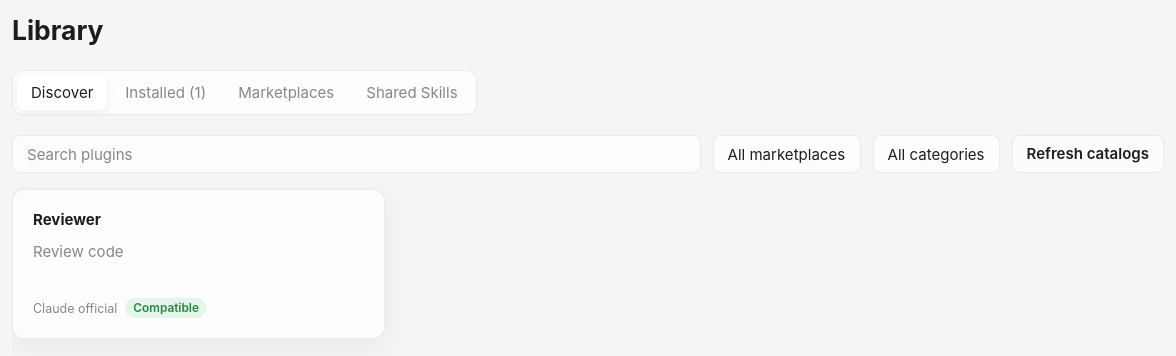
Scenario: PluginsTab › renders a list of plugins from the stub
This screenshot has width=1176, height=356.
Step 1. Click the tab "Installed (1)" → coordinates (166, 92), box x1=111 y1=75 x2=220 y2=110
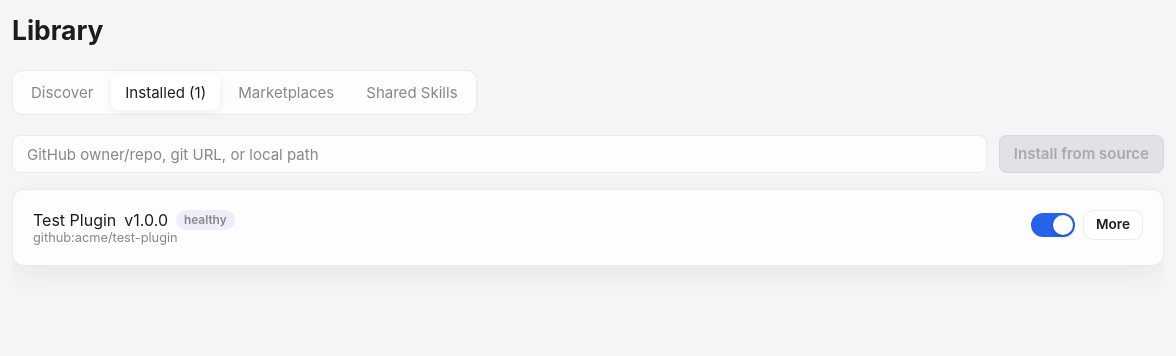
Result: the text "Test Plugin" is shown at x1=33 y1=210 x2=116 y2=230
Result: the text "v1.0.0" is shown at x1=124 y1=210 x2=168 y2=230
Result: the text "github:acme/test-plugin" is shown at x1=33 y1=230 x2=178 y2=245
